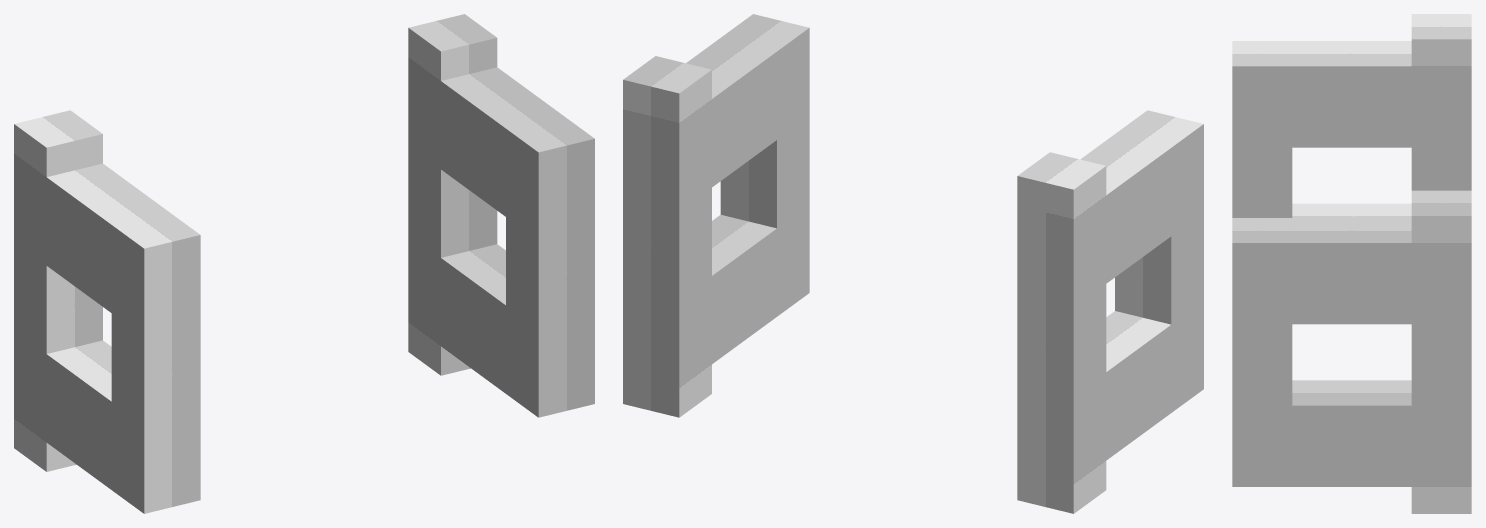
The model's file is block_template_fence_gate_open.gltf.
3 renders of one model, left to right at view 1: azimuth 30°, elevation 25°; view 2: azimuth 150°, elevation 25°; view 3: azimuth 270°, elevation 25°, orthographic. The views are drawn at different scales.
Visible parts, largest first — view 1: Inner vertical post of left-hand gate door, Inner vertical post of right-hand gate door, Upper horizontal bar of left-hand gate door (×2), Right-hand post, Left-hand post, Lower horizontal bar of left-hand gate door (×2); view 2: Left-hand post, Right-hand post, Upper horizontal bar of left-hand gate door (×2), Lower horizontal bar of left-hand gate door (×2), Inner vertical post of right-hand gate door, Inner vertical post of left-hand gate door; view 3: Upper horizontal bar of left-hand gate door (×2), Right-hand post, Inner vertical post of right-hand gate door, Lower horizontal bar of left-hand gate door (×2), Left-hand post, Inner vertical post of left-hand gate door.
Part boxes in pixels (x1=…): Inner vertical post of left-hand gate door: x1=111, y1=211, x2=200, y2=513; Inner vertical post of right-hand gate door: x1=506, y1=115, x2=594, y2=417; Upper horizontal bar of left-hand gate door (×2): x1=46, y1=67, x2=561, y2=312; Right-hand post: x1=408, y1=14, x2=497, y2=375; Left-hand post: x1=14, y1=110, x2=102, y2=471; Lower horizontal bar of left-hand gate door (×2): x1=46, y1=244, x2=505, y2=489; Left-hand post: x1=1017, y1=152, x2=1106, y2=513; Right-hand post: x1=623, y1=56, x2=711, y2=417; Upper horizontal bar of left-hand gate door (×2): x1=686, y1=38, x2=1171, y2=283; Lower horizontal bar of left-hand gate door (×2): x1=712, y1=214, x2=1171, y2=460; Inner vertical post of right-hand gate door: x1=720, y1=14, x2=809, y2=316; Inner vertical post of left-hand gate door: x1=1115, y1=110, x2=1203, y2=412; Upper horizontal bar of left-hand gate door (×2): x1=1292, y1=41, x2=1411, y2=324; Right-hand post: x1=1411, y1=190, x2=1471, y2=513; Inner vertical post of right-hand gate door: x1=1232, y1=218, x2=1292, y2=486; Lower horizontal bar of left-hand gate door (×2): x1=1292, y1=203, x2=1411, y2=486; Left-hand post: x1=1411, y1=14, x2=1471, y2=190; Inner vertical post of left-hand gate door: x1=1232, y1=41, x2=1292, y2=217.
Size of the model in its own units: 1 by 0.6875 by 0.5.
Materials: 1 (1 with a texture image).
